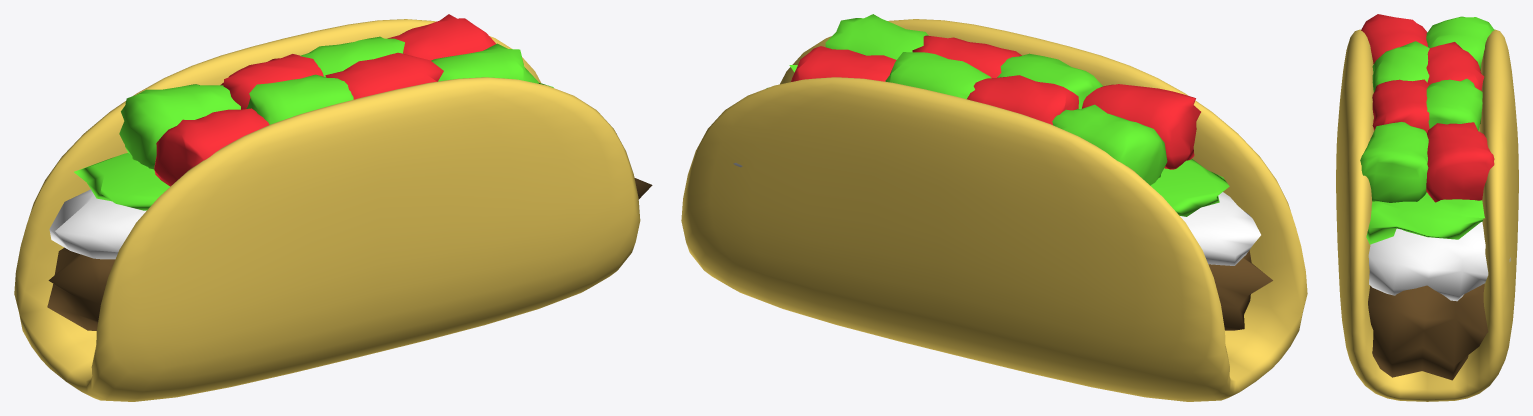
Rendered from taco.glb.
3 views of the same model, side by side, from view 1: azimuth 30°, elevation 25°; view 2: azimuth 150°, elevation 25°; view 3: azimuth 270°, elevation 25° (orthographic). The views are drawn at different scales.
Parts seen in each view (by area): view 1: Cubo, Cubo.005, Cubo.004, Cubo.002, Cubo.001, Cubo.003; view 2: Cubo, Cubo.005, Cubo.004, Cubo.002, Cubo.003, Cubo.001; view 3: Cubo, Cubo.005, Cubo.001, Cubo.004, Cubo.002, Cubo.003.
Part boxes in pixels (x1,y1,x2,y2): Cubo: (14,19,640,401); Cubo.005: (119,14,538,186); Cubo.004: (220,36,443,124); Cubo.002: (49,133,616,259); Cubo.001: (47,178,652,330); Cubo.003: (74,82,553,210); Cubo: (681,19,1307,401); Cubo.005: (791,14,1200,185); Cubo.004: (885,35,1102,124); Cubo.002: (733,162,1260,265); Cubo.003: (766,65,1229,216); Cubo.001: (1208,250,1272,330); Cubo: (1336,29,1518,401); Cubo.005: (1360,14,1494,202); Cubo.001: (1368,283,1488,380); Cubo.004: (1372,41,1484,132); Cubo.002: (1368,222,1510,301); Cubo.003: (1366,128,1484,244).
Bounding box in the file's own units: 7.24 × 3.31 × 2.3.
Materials: 1 (1 with a texture image).
